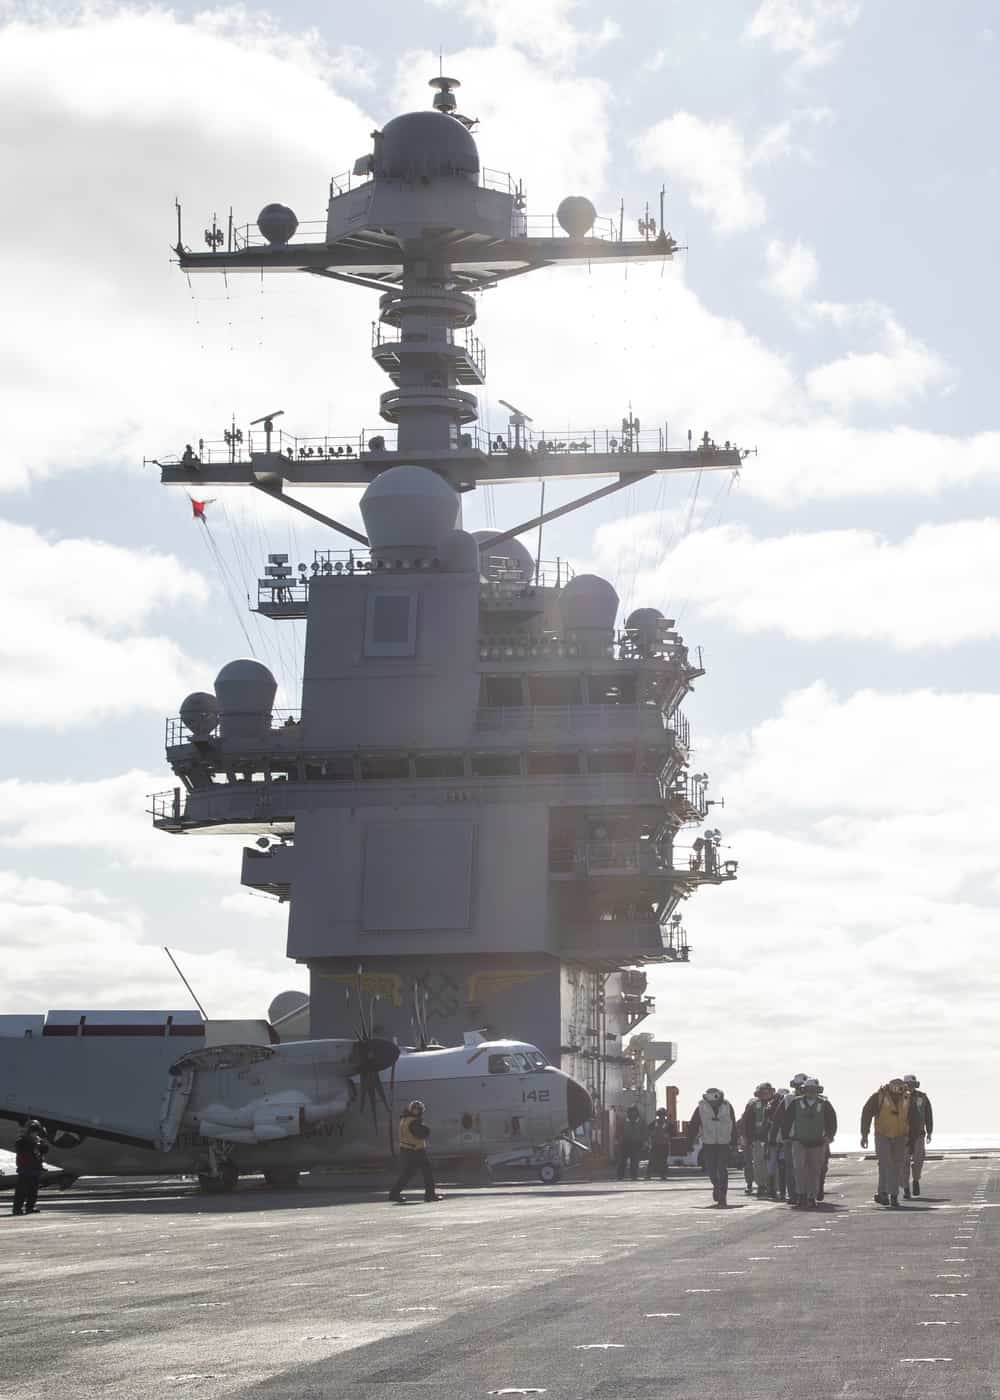E2: (1, 1009, 595, 1191)
